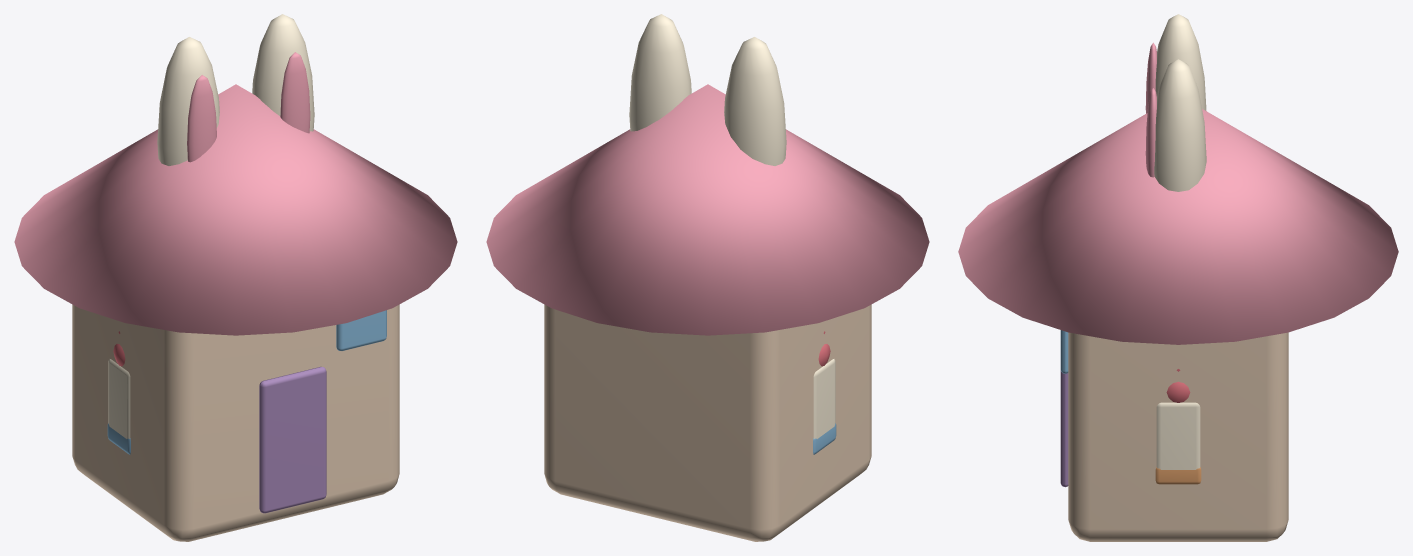
The model's file is toybox.glb.
3 renders of one model, left to right at view 1: azimuth 30°, elevation 25°; view 2: azimuth 150°, elevation 25°; view 3: azimuth 270°, elevation 25°, orthographic.
Parts seen in each view (by area): view 1: house, rabbit, magnet; view 2: house, rabbit, magnet; view 3: house, rabbit, magnet.
Part boxes in pixels (x1,y1,x2,y2): house: (14, 84, 457, 541); rabbit: (157, 14, 314, 165); magnet: (107, 331, 130, 454); house: (486, 84, 929, 541); rabbit: (629, 14, 786, 165); magnet: (813, 331, 836, 454); house: (958, 109, 1398, 541); rabbit: (1145, 14, 1206, 191); magnet: (1155, 369, 1201, 484).
Bounding box in the file's own units: 1.4 × 1.74 × 1.4.
